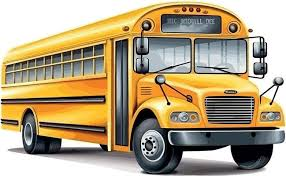bus: (1, 1, 285, 175)
